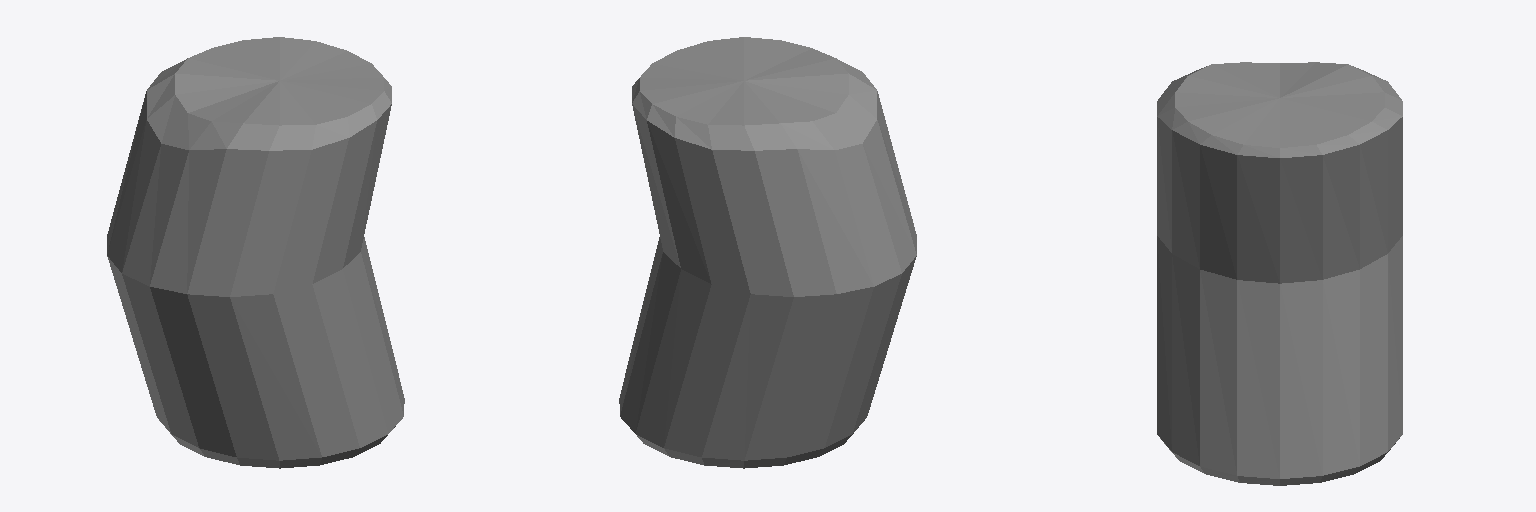
Rendered from LH_cants_01.obj.
3 views of the same model, side by side, from view 1: azimuth 30°, elevation 25°; view 2: azimuth 150°, elevation 25°; view 3: azimuth 270°, elevation 25° (orthographic).
Parts seen in each view (by area): view 1: Cylinder002; view 2: Cylinder002; view 3: Cylinder002.
Part boxes in pixels (left/top/right/bottom): Cylinder002: left=107, top=37, right=404, bottom=468; Cylinder002: left=619, top=37, right=916, bottom=468; Cylinder002: left=1157, top=62, right=1402, bottom=485.
Size of the model in its own units: 2.21 by 2.67 by 1.76.